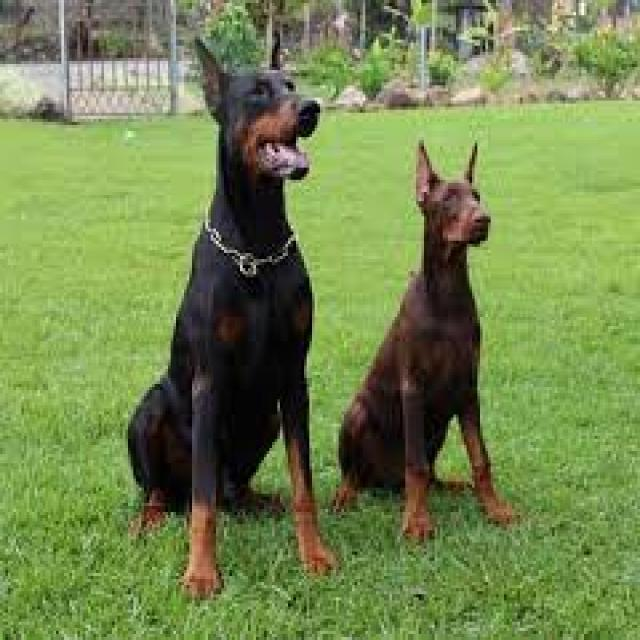Dog: (123, 24, 344, 605), (332, 135, 517, 548)
